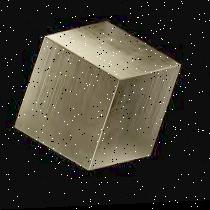cube: (13, 18, 180, 175)
